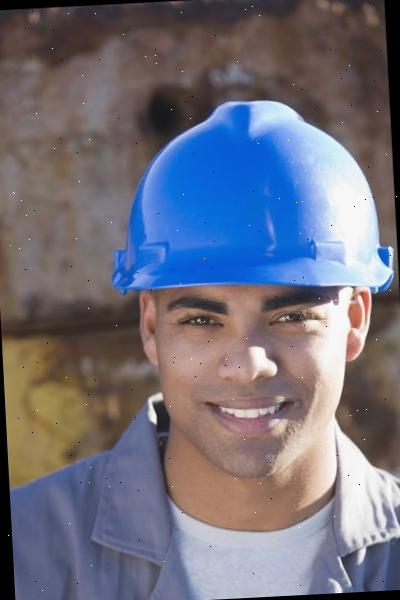helmet: (96, 88, 398, 306)
wear: (9, 459, 400, 600)
